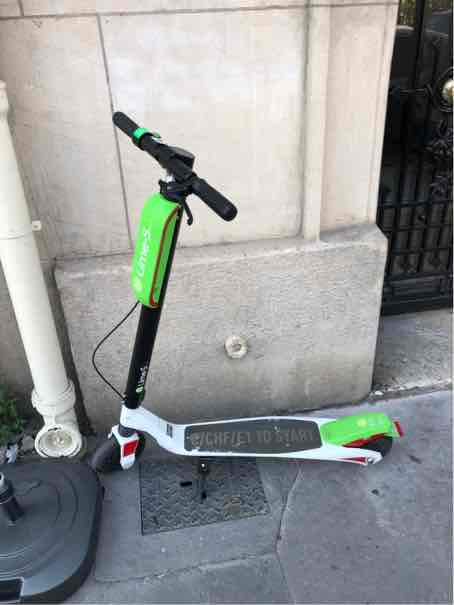scooter: (93, 104, 402, 486)
